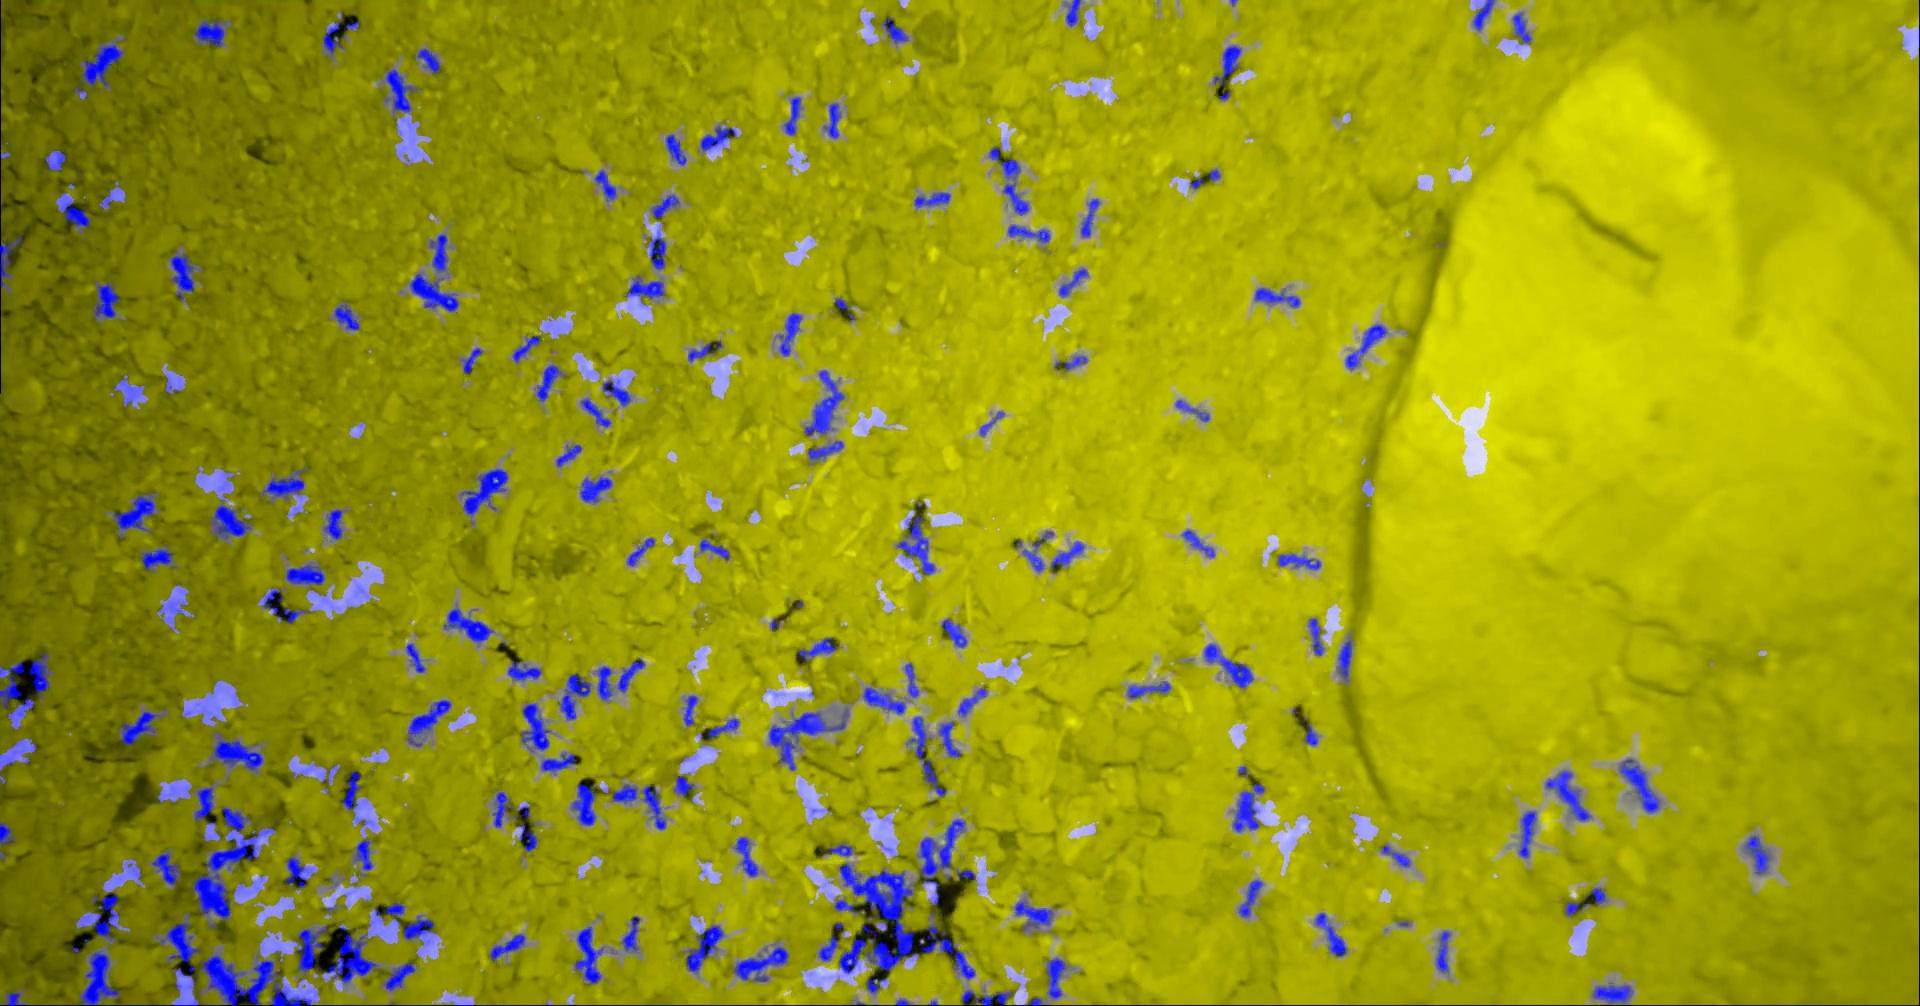ant: (908, 716, 949, 796), (919, 923, 977, 979), (75, 38, 124, 100), (990, 146, 1030, 213), (806, 370, 844, 434), (460, 467, 509, 516), (1547, 770, 1592, 821), (1205, 643, 1255, 687), (899, 514, 936, 574), (408, 699, 452, 746), (213, 732, 264, 772), (160, 911, 201, 962), (1622, 760, 1661, 812), (114, 492, 157, 539), (411, 273, 460, 312), (735, 946, 790, 981), (1347, 323, 1388, 368), (687, 925, 725, 972), (444, 607, 494, 643), (324, 11, 361, 57), (577, 926, 604, 983), (1, 235, 24, 304), (212, 499, 251, 539), (297, 925, 329, 973), (91, 890, 121, 942), (264, 466, 310, 499), (1234, 782, 1265, 832), (522, 702, 552, 751), (1316, 912, 1349, 956), (560, 673, 592, 719), (386, 69, 419, 111), (121, 710, 160, 744), (1023, 530, 1054, 572), (171, 251, 196, 300), (865, 687, 907, 714), (152, 848, 182, 885), (644, 782, 667, 829), (1016, 901, 1054, 929), (573, 782, 597, 826), (1217, 44, 1242, 85), (1051, 541, 1084, 572), (1746, 835, 1771, 874), (618, 657, 646, 692), (94, 282, 121, 319), (799, 636, 839, 661), (58, 198, 91, 227), (780, 312, 803, 354), (491, 934, 526, 962), (1256, 287, 1302, 307), (737, 836, 759, 876), (194, 18, 226, 47), (385, 962, 417, 991), (1183, 528, 1217, 556), (1239, 879, 1263, 917), (582, 398, 612, 427), (538, 365, 563, 401), (702, 124, 737, 150), (627, 276, 665, 298), (142, 545, 177, 570), (959, 687, 988, 716), (287, 563, 326, 584), (702, 718, 740, 739), (1060, 268, 1090, 296), (8, 699, 36, 728), (582, 476, 613, 502), (343, 771, 363, 810), (1010, 224, 1051, 243), (1048, 956, 1067, 998), (963, 989, 1015, 1005), (940, 721, 963, 756), (629, 537, 657, 565), (223, 807, 253, 833), (1520, 810, 1537, 857), (1594, 984, 1632, 1005), (404, 915, 436, 939), (430, 232, 450, 272), (514, 335, 542, 362), (1082, 198, 1101, 236), (493, 791, 513, 827), (1129, 681, 1172, 697), (604, 380, 632, 405), (286, 856, 309, 887), (376, 902, 406, 925), (667, 133, 688, 165), (785, 97, 803, 135), (335, 304, 361, 330), (809, 439, 844, 459), (943, 619, 968, 647), (1177, 400, 1210, 420), (1474, 0, 1496, 30), (596, 169, 617, 199), (1279, 554, 1322, 569), (509, 661, 543, 680), (884, 17, 909, 42), (653, 194, 681, 217), (1382, 845, 1411, 866), (196, 788, 215, 821), (701, 539, 731, 559), (418, 48, 442, 74), (623, 916, 641, 950), (356, 838, 375, 870), (825, 103, 842, 138), (543, 753, 577, 771), (1514, 13, 1533, 43), (263, 587, 284, 614), (1338, 639, 1352, 680), (518, 823, 538, 851), (1437, 931, 1451, 972), (651, 232, 667, 269), (325, 509, 344, 539), (408, 643, 427, 672), (557, 445, 583, 466), (916, 192, 951, 207), (982, 412, 1004, 434), (598, 666, 613, 700), (1567, 894, 1592, 915), (1310, 619, 1324, 655), (690, 342, 716, 361), (463, 347, 483, 373), (279, 607, 312, 622), (1057, 354, 1088, 370), (820, 935, 839, 960), (905, 663, 919, 697), (46, 149, 67, 170), (1303, 718, 1319, 744), (1, 988, 28, 1005), (836, 298, 856, 320), (615, 784, 637, 803), (684, 695, 698, 725), (869, 973, 889, 993), (676, 775, 695, 796), (1067, 0, 1082, 25), (1, 821, 17, 845), (100, 188, 116, 208), (829, 843, 853, 856), (836, 899, 860, 912), (124, 385, 138, 406), (1, 147, 13, 173), (1592, 887, 1608, 904), (957, 869, 977, 879)
